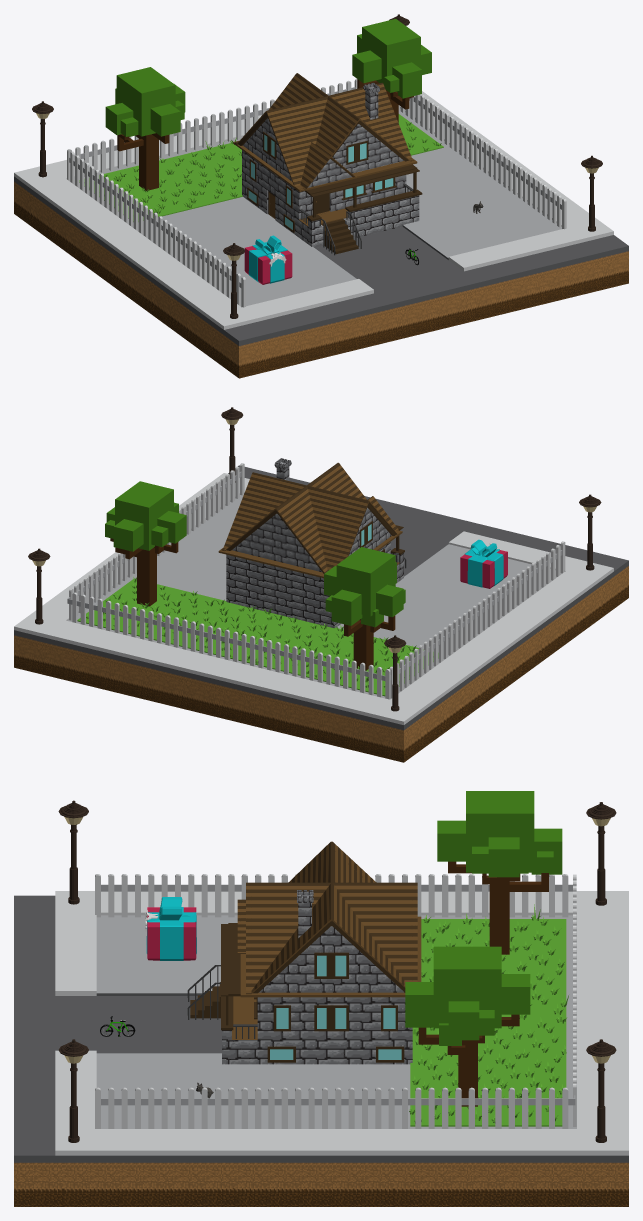
The picture shows the model from 3 angles, top to bottom: view 1: azimuth 30°, elevation 25°; view 2: azimuth 150°, elevation 25°; view 3: azimuth 270°, elevation 25°; orthographic projection. The views are drawn at different scales.
Parts seen in each view (by area): view 1: Cube.004, Cube.586, OBJRANDOM_GIANT_PRESENT; view 2: Cube.004, Cube.586, OBJRANDOM_GIANT_PRESENT; view 3: Cube.004, Cube.586, OBJRANDOM_GIANT_PRESENT.
Boxes of the visible parts, <box> form: Cube.004: <box>14,14,628,378</box>; Cube.586: <box>233,73,422,255</box>; OBJRANDOM_GIANT_PRESENT: <box>244,235,292,284</box>; Cube.004: <box>14,407,628,762</box>; Cube.586: <box>218,458,406,627</box>; OBJRANDOM_GIANT_PRESENT: <box>460,539,507,588</box>; Cube.004: <box>14,791,628,1206</box>; Cube.586: <box>187,841,421,1064</box>; OBJRANDOM_GIANT_PRESENT: <box>145,897,196,960</box>.
Bounding box in the file's own units: 4000 × 1618 × 4000.
29 materials, 4 textured.
